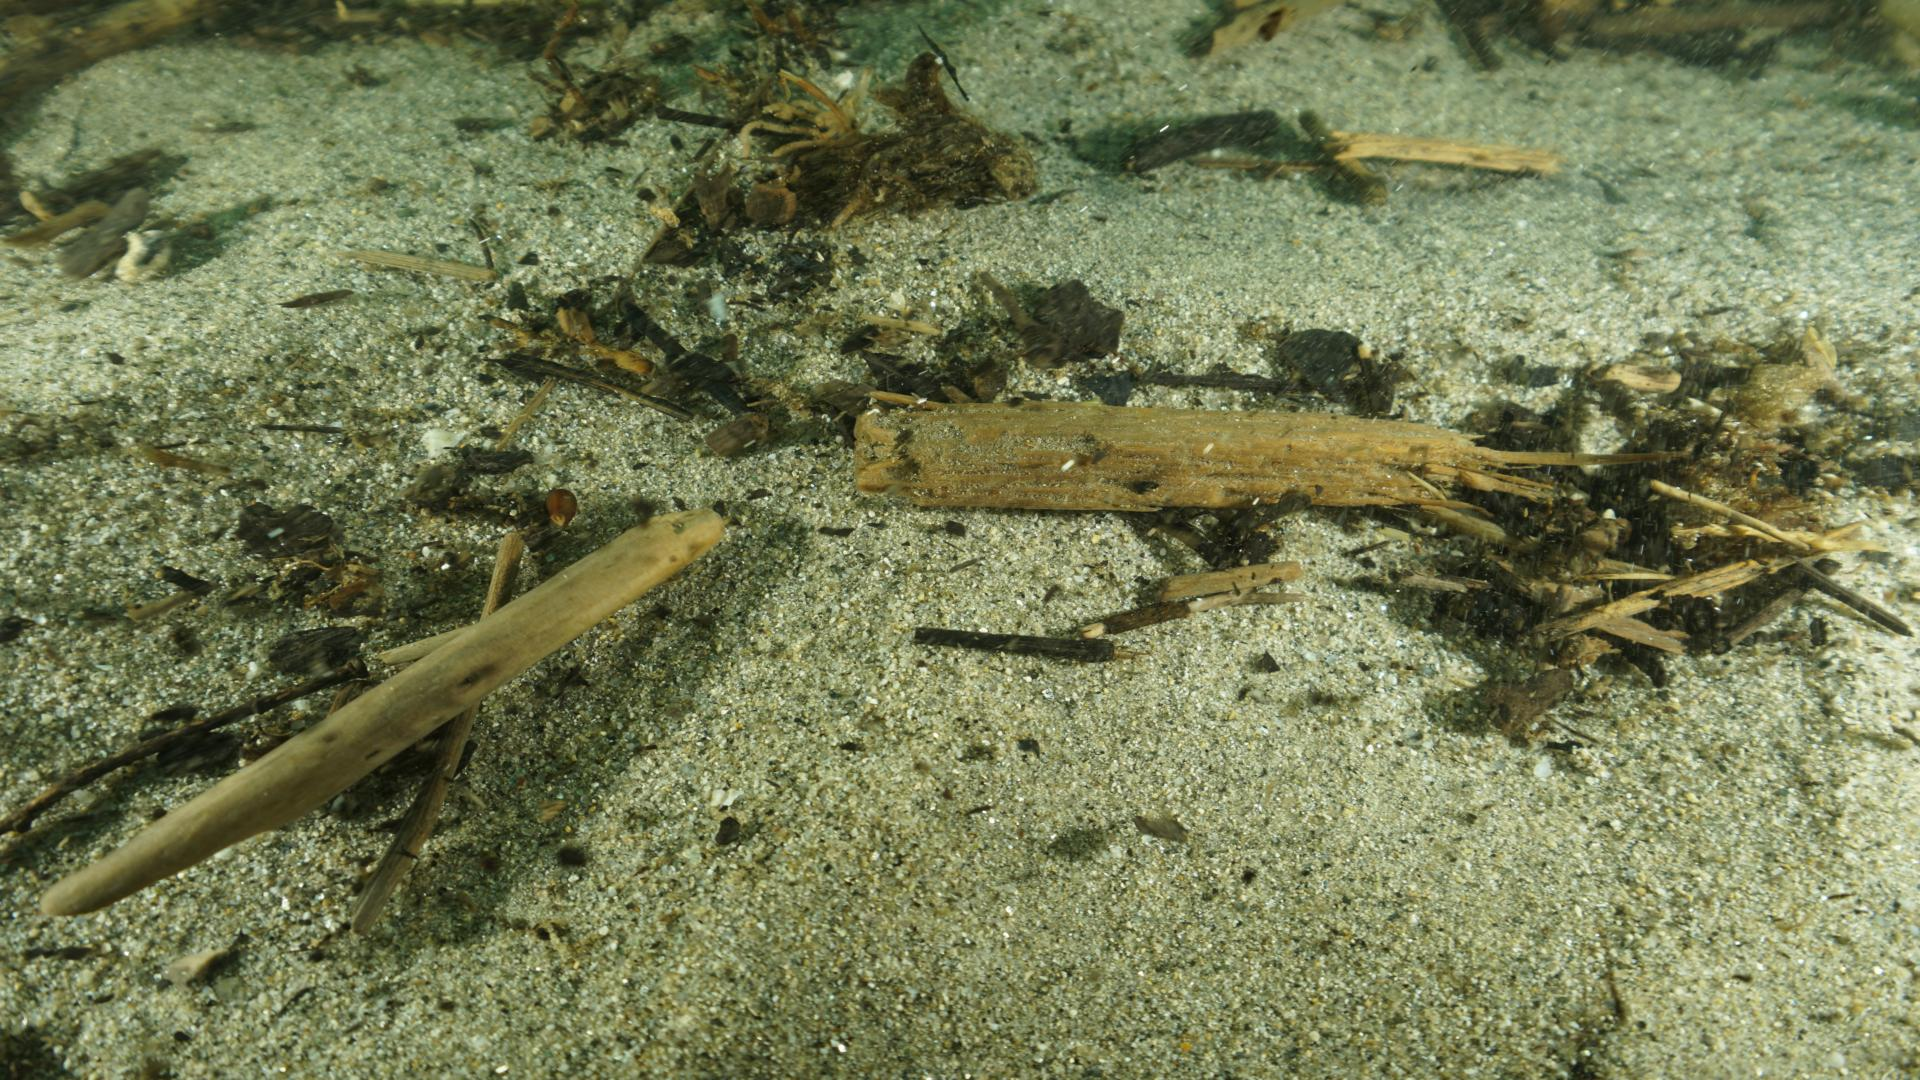wood: (47, 501, 729, 914), (855, 386, 1586, 520)
